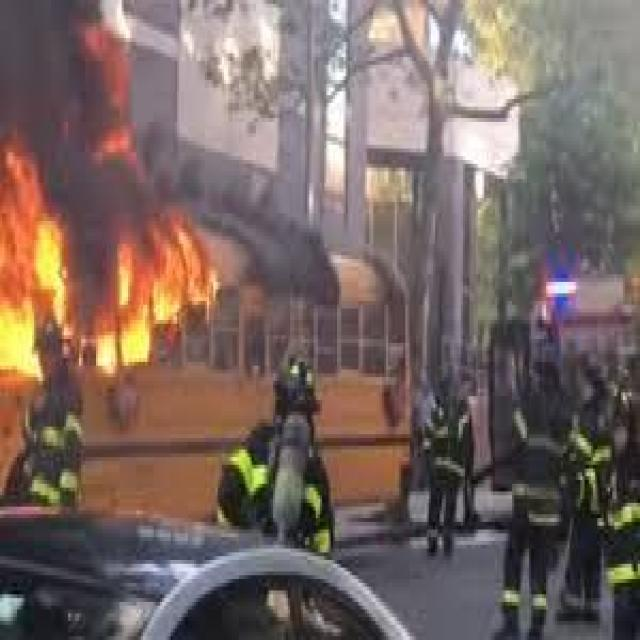fire: (1, 112, 225, 412)
smoke: (0, 0, 105, 141)
